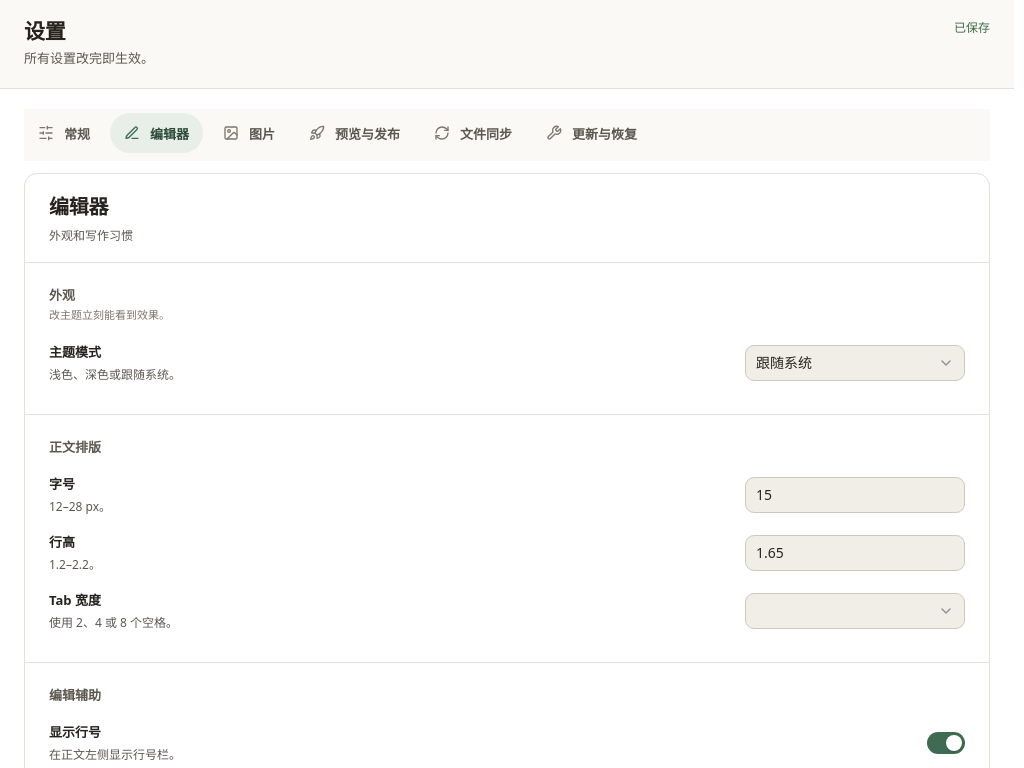
Test: settings interaction recovery › writes after the debounce settles and re-persists changes typed afterwards
Replace the text in the number field labelled "字号" with "18" at {"x": 855, "y": 494}, box left=745, top=476, right=965, bottom=512
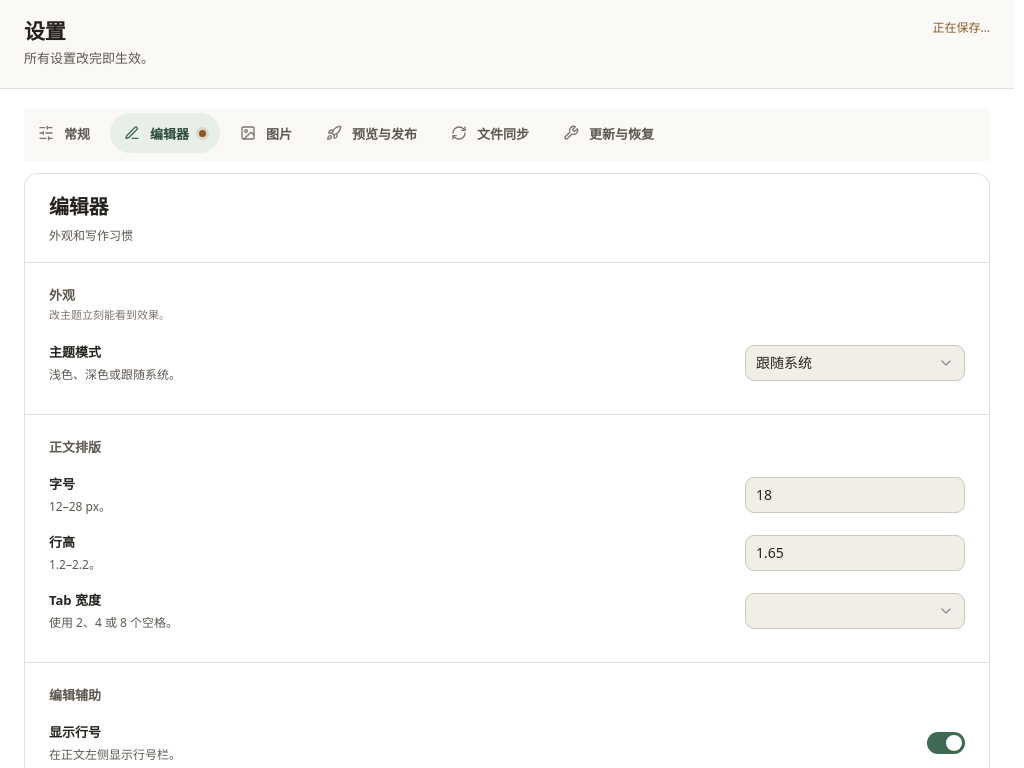
Replace the text in the number field labelled "字号" with "20" at {"x": 855, "y": 494}, box left=745, top=476, right=965, bottom=512
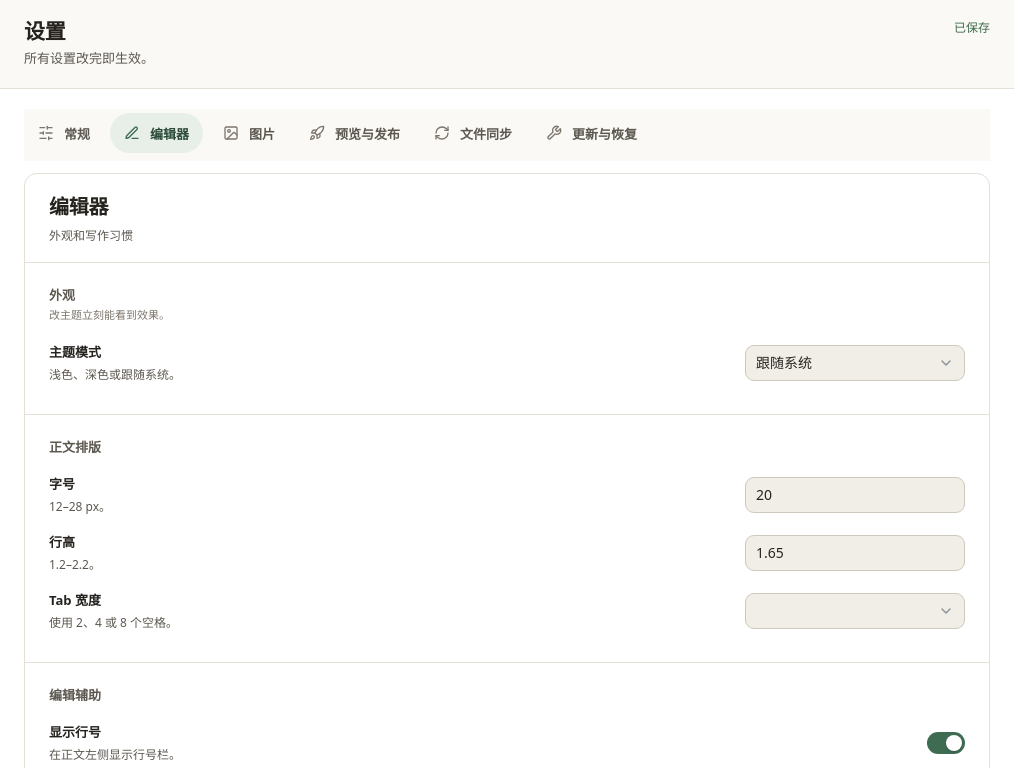
Result: the text with class "settings-save-state" reads "已保存" at left=954, top=19, right=990, bottom=36
